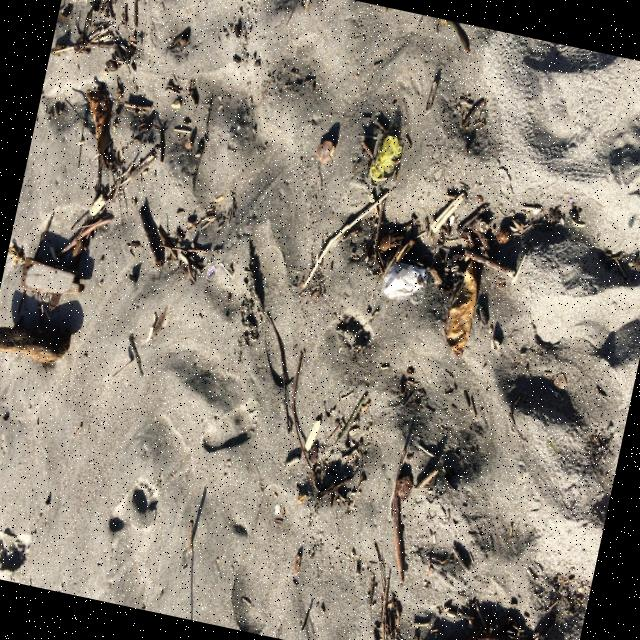Normal paper: (383, 265, 428, 297)
Other plastic bottle: (207, 266, 215, 278)
Rope - strings: (369, 137, 402, 185)
